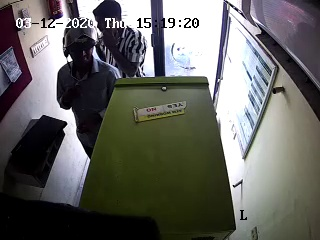helmet: (57, 17, 102, 69)
